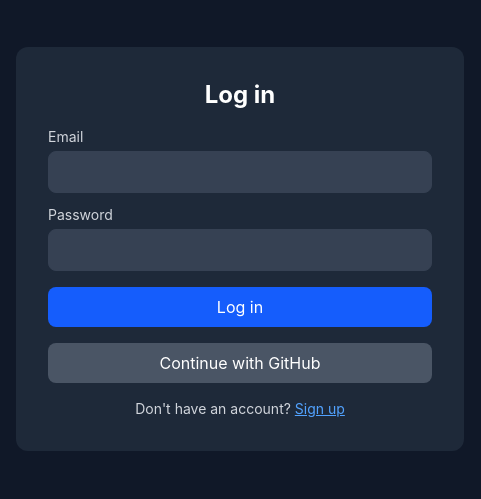
wrong credentials show the message of the API and stay on the page
Type "me@example.com" into the field labelled "Email".
click(240, 172); type("me@example.com")  # box top-left (48, 151), bottom-right (432, 193)
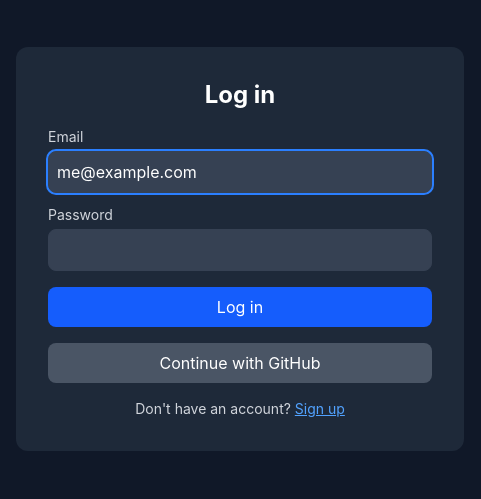
Type "password1" into the password field labelled "Password".
click(240, 250); type("password1")  # box top-left (48, 229), bottom-right (432, 271)
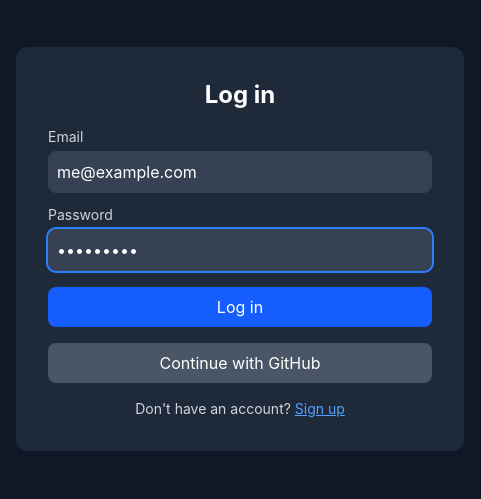
Click the button "Log in".
click(240, 307)  # box top-left (48, 287), bottom-right (432, 327)
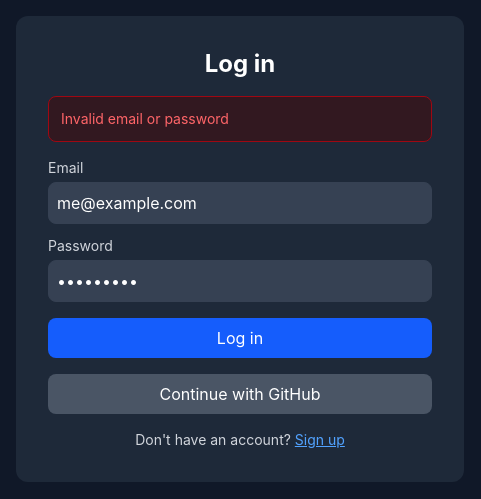
Check: the message reads "Invalid email or password", box top-left (61, 110), bottom-right (229, 127)
